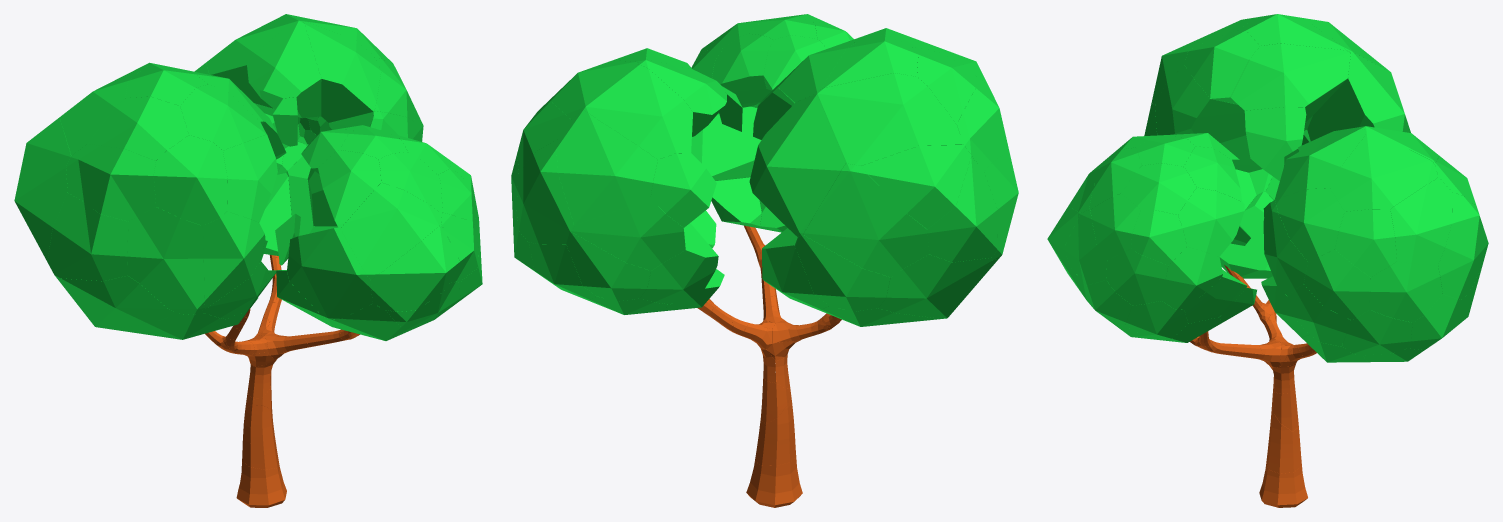
The model's file is kırılanağaç2.fbx.
The picture shows the model from 3 angles, left to right: view 1: azimuth 30°, elevation 25°; view 2: azimuth 150°, elevation 25°; view 3: azimuth 270°, elevation 25°; orthographic projection. The views are drawn at different scales.
Visible parts, largest first — view 1: Icosphere.002_cell.078, Icosphere.002_cell.023, Icosphere.002_cell.086, Icosphere.002_cell.041, Icosphere.002_cell.094, Icosphere.002_cell.054, Icosphere.002_cell.035, Icosphere.002_cell.079, Icosphere.002_cell.097, Icosphere.002_cell.043, Icosphere.002_cell.044, Icosphere.002_cell.011 (+33 smaller); view 2: Icosphere.002_cell.006, Icosphere.002_cell.065, Icosphere.002_cell.049, Icosphere.002_cell, Icosphere.002_cell.062, Icosphere.002_cell.080, Icosphere.002_cell.008, Icosphere.002_cell.096, Icosphere.002_cell.067, Icosphere.002_cell.045, Icosphere.002_cell.042, Icosphere.002_cell.063 (+31 smaller); view 3: Icosphere.002_cell.099, Icosphere.002_cell.004, Icosphere.002_cell.065, Icosphere.002_cell.064, Icosphere.002_cell.015, Icosphere.002_cell.026, Icosphere.002_cell.092, Icosphere.002_cell.045, Icosphere.002_cell.095, Icosphere.002_cell.024, Icosphere.002_cell.058, Icosphere.002_cell.019 (+37 smaller).
Part boxes in pixels (x1=…): Icosphere.002_cell.078: x1=127, y1=207, x2=205, y2=314; Icosphere.002_cell.023: x1=287, y1=227, x2=372, y2=319; Icosphere.002_cell.086: x1=340, y1=182, x2=441, y2=279; Icosphere.002_cell.041: x1=47, y1=193, x2=128, y2=281; Icosphere.002_cell.094: x1=66, y1=144, x2=155, y2=221; Icosphere.002_cell.054: x1=153, y1=135, x2=227, y2=225; Icosphere.002_cell.035: x1=303, y1=21, x2=381, y2=122; Icosphere.002_cell.079: x1=247, y1=20, x2=321, y2=118; Icosphere.002_cell.097: x1=371, y1=224, x2=459, y2=311; Icosphere.002_cell.043: x1=203, y1=211, x2=265, y2=308; Icosphere.002_cell.044: x1=88, y1=96, x2=188, y2=160; Icosphere.002_cell.011: x1=56, y1=275, x2=178, y2=328; Icosphere.002_cell.006: x1=817, y1=73, x2=963, y2=165; Icosphere.002_cell.065: x1=749, y1=93, x2=845, y2=236; Icosphere.002_cell.049: x1=803, y1=163, x2=929, y2=277; Icosphere.002_cell: x1=556, y1=110, x2=657, y2=225; Icosphere.002_cell.062: x1=582, y1=64, x2=692, y2=159; Icosphere.002_cell.080: x1=861, y1=144, x2=971, y2=229; Icosphere.002_cell.008: x1=573, y1=198, x2=685, y2=270; Icosphere.002_cell.096: x1=879, y1=254, x2=991, y2=318; Icosphere.002_cell.067: x1=927, y1=156, x2=997, y2=262; Icosphere.002_cell.045: x1=516, y1=138, x2=574, y2=244; Icosphere.002_cell.042: x1=795, y1=235, x2=890, y2=311; Icosphere.002_cell.063: x1=650, y1=153, x2=716, y2=227; Icosphere.002_cell.099: x1=1230, y1=43, x2=1350, y2=122; Icosphere.002_cell.004: x1=1330, y1=131, x2=1438, y2=211; Icosphere.002_cell.065: x1=1307, y1=52, x2=1410, y2=141; Icosphere.002_cell.064: x1=1155, y1=65, x2=1246, y2=142; Icosphere.002_cell.015: x1=1390, y1=177, x2=1452, y2=265; Icosphere.002_cell.026: x1=1275, y1=188, x2=1344, y2=262; Icosphere.002_cell.092: x1=1369, y1=261, x2=1442, y2=322; Icosphere.002_cell.045: x1=1438, y1=192, x2=1488, y2=299; Icosphere.002_cell.095: x1=1184, y1=30, x2=1259, y2=104; Icosphere.002_cell.024: x1=1178, y1=187, x2=1244, y2=256; Icosphere.002_cell.058: x1=1335, y1=209, x2=1396, y2=277; Icosphere.002_cell.019: x1=1244, y1=107, x2=1306, y2=180.
Size of the model in its own units: 1128 by 1212 by 1101.
